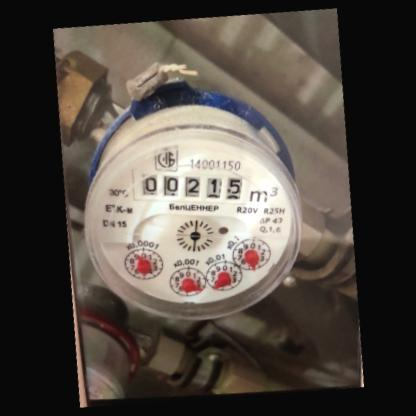digital_screen: (129, 166, 250, 205)
